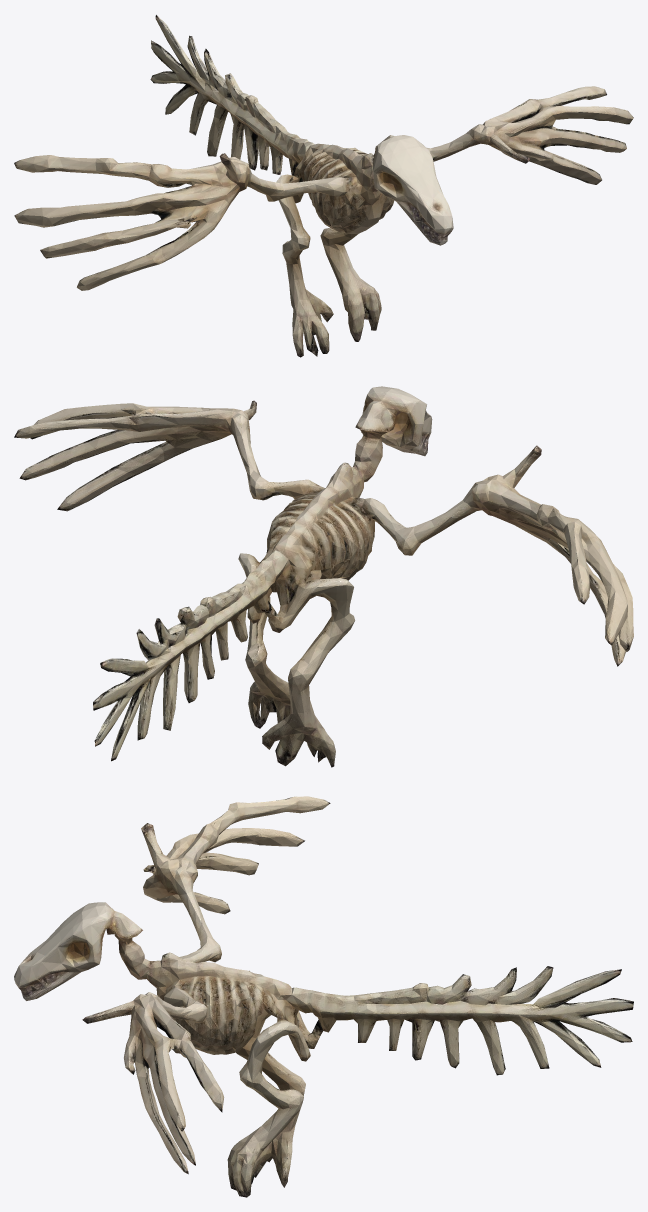
Rendered from archaeopteryx-skjelett.glb.
3 views of the same model, one above another, from view 1: azimuth 30°, elevation 25°; view 2: azimuth 150°, elevation 25°; view 3: azimuth 270°, elevation 25° (orthographic). The views are drawn at different scales.
Parts seen in each view (by area): view 1: geometry_0; view 2: geometry_0; view 3: geometry_0.
Part boxes in pixels (x1,y1,x2,y2): geometry_0: [14, 15, 633, 357]; geometry_0: [14, 386, 633, 767]; geometry_0: [14, 796, 633, 1197].
Bounding box in the file's own units: 0.9954 × 0.4614 × 0.8931.
Materials: 1 (1 with a texture image).
